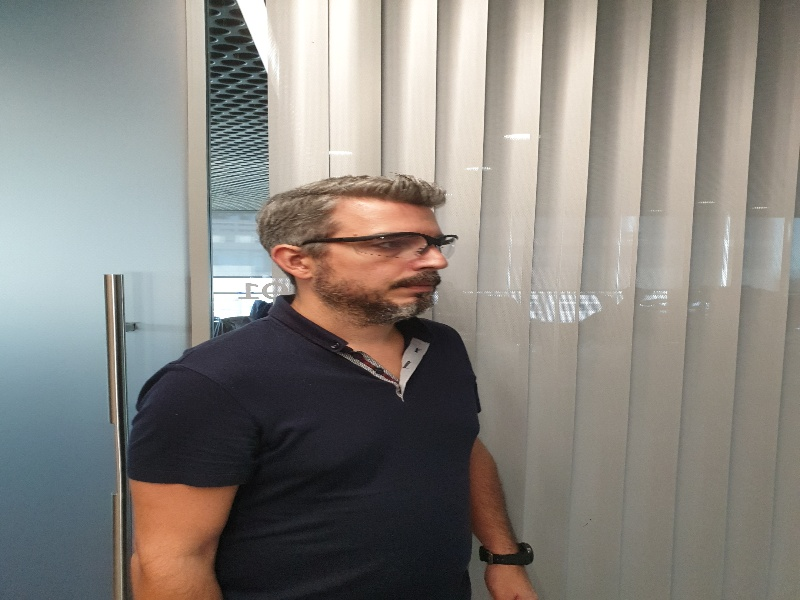Gozluk: (303, 233, 460, 257)
